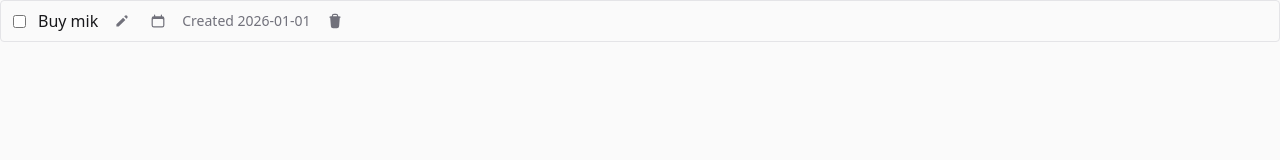
Test: <TodoItem> edit mode (§6) › AC-6.5: shows "Title must be 200 characters or fewer" and keeps the draft when the action rejects the length
Click the button named "Edit title". click: (122, 21)
box: [110,9,134,33]
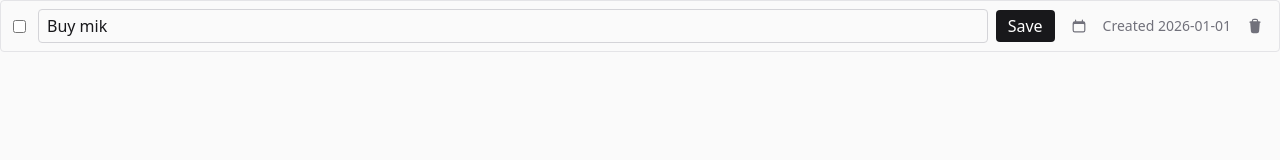
Click the button "Save". click: (1025, 26)
box: [996,10,1055,42]
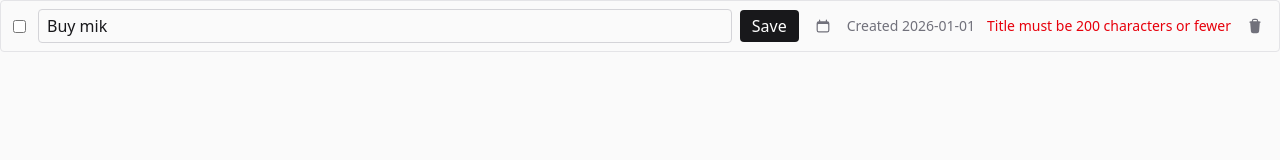
Expected: the field named "Edit title" holds "Buy mik", [38,9,732,43]
Expected: the text "Title must be 200 characters or fewer" is shown, [987,16,1231,36]
